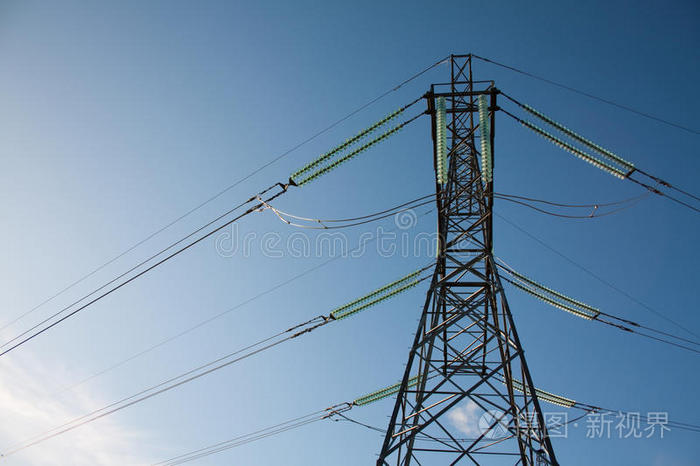insulator: (291, 106, 406, 186), (517, 105, 634, 181), (336, 268, 422, 322), (510, 270, 597, 320), (506, 378, 575, 408), (355, 377, 419, 406), (477, 93, 495, 184), (434, 95, 450, 185)
